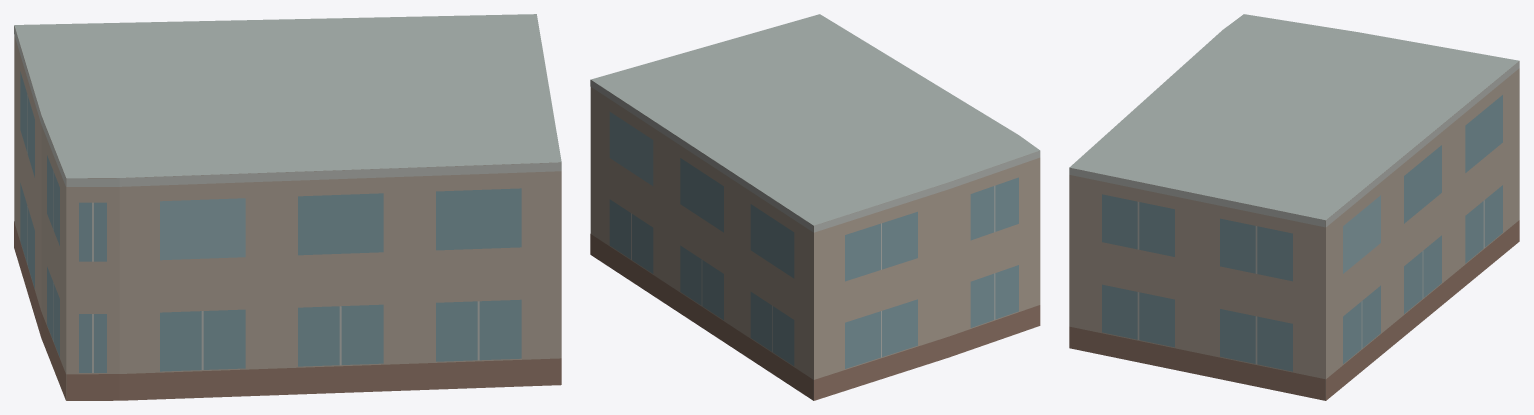
Rendered from survey-upis-32891898.glb.
3 renders of one model, left to right at view 1: azimuth 30°, elevation 25°; view 2: azimuth 150°, elevation 25°; view 3: azimuth 270°, elevation 25°, orthographic. The views are drawn at different scales.
Parts seen in each view (by area): view 1: survey-upis-32891898.tmp; view 2: survey-upis-32891898.tmp; view 3: survey-upis-32891898.tmp.
Part boxes in pixels (x1,y1,x2,y2): survey-upis-32891898.tmp: (14, 14, 561, 400); survey-upis-32891898.tmp: (590, 14, 1040, 400); survey-upis-32891898.tmp: (1069, 14, 1519, 400).
Size of the model in its own units: 14.95 by 6.1 by 13.8.
